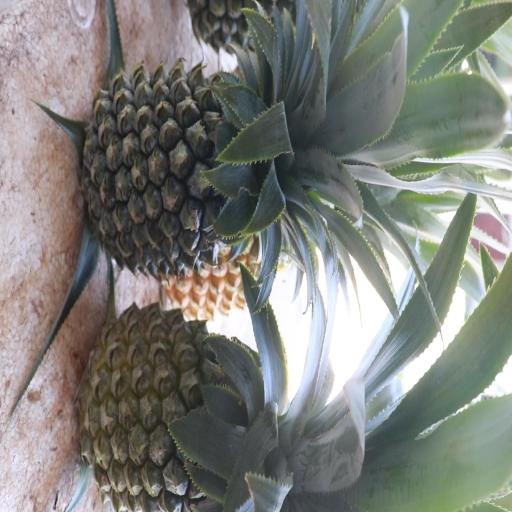------------------------------: (82, 304, 287, 512)
